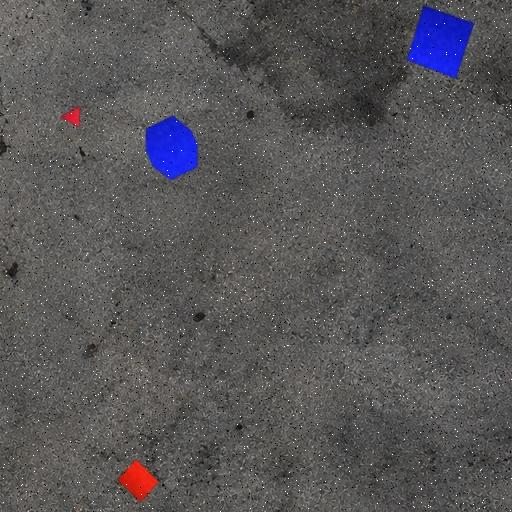BLUE_SQUARE: (406, 5, 476, 79)
RED_SQUARE: (117, 458, 159, 504)
